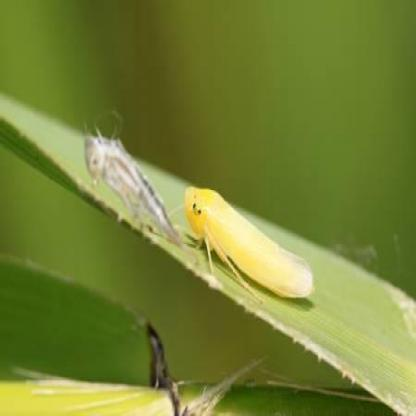Green-Leafhopper: (181, 182, 316, 309), (76, 124, 188, 250)
